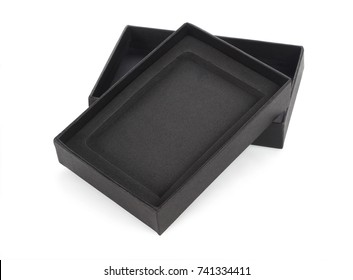Foam Box: (49, 17, 307, 238)
